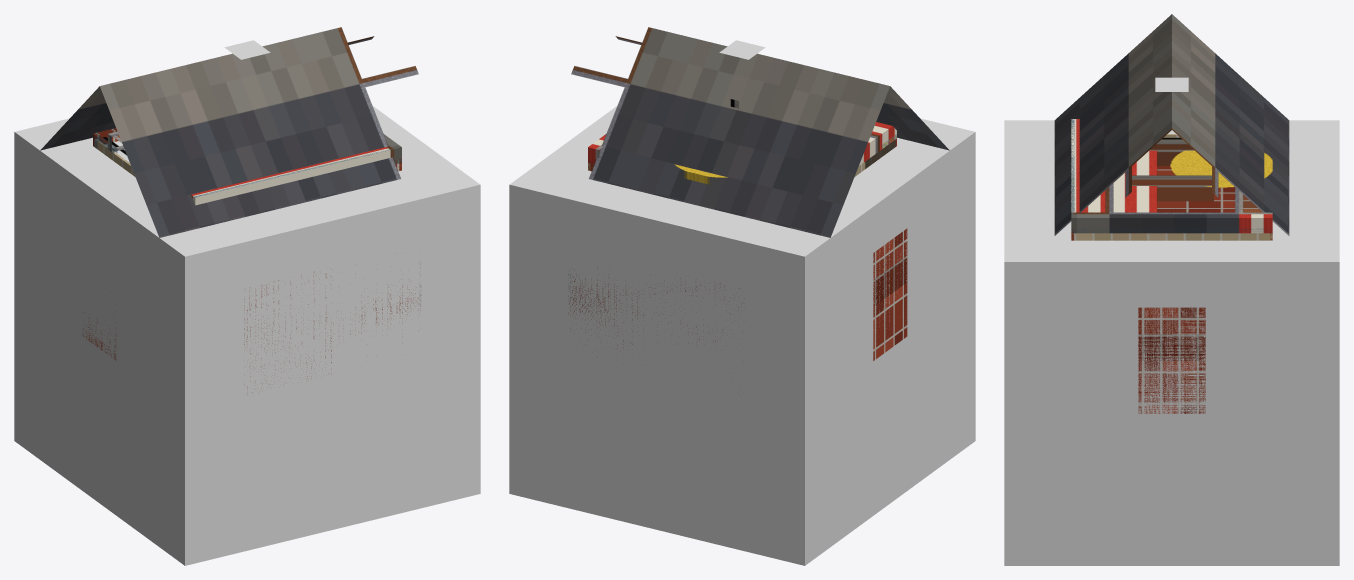
File: st_matthews_cathedral.glb
3 renders of one model, left to right at view 1: azimuth 30°, elevation 25°; view 2: azimuth 150°, elevation 25°; view 3: azimuth 270°, elevation 25°, orthographic.
Parts seen in each view (by area): view 1: Cube, st_matthews_cathedral_roof_-1_xb, masonic_temple_roof_xf, st_matthews_cathedral_roof_1_xb; view 2: Cube, st_matthews_cathedral_roof_1_xb, st_matthews_cathedral__wall_9_xb, st_matthews_cathedral_roof_-1_xb, masonic_temple_roof_xf; view 3: Cube, st_matthews_cathedral_roof_1_xb, st_matthews_cathedral_roof_-1_xb, st_matthews_cathedral__wall_3_xb, masonic_temple_roof_xb, masonic_temple_roof_xf, st_matthews_cathedral__tower_xb, masonic_temple__wall_1_xb, st_matthews_cathedral_cross_xb.
Boxes of the visible parts, x1,y1,x2,y2 form: Cube: [14, 105, 480, 565]; st_matthews_cathedral_roof_-1_xb: [100, 27, 418, 237]; masonic_temple_roof_xf: [103, 137, 390, 205]; st_matthews_cathedral_roof_1_xb: [40, 36, 374, 150]; Cube: [509, 105, 975, 565]; st_matthews_cathedral_roof_1_xb: [571, 27, 889, 237]; st_matthews_cathedral__wall_9_xb: [873, 228, 907, 360]; st_matthews_cathedral_roof_-1_xb: [615, 36, 949, 150]; masonic_temple_roof_xf: [674, 122, 896, 184]; Cube: [1004, 120, 1339, 565]; st_matthews_cathedral_roof_1_xb: [1172, 14, 1289, 235]; st_matthews_cathedral_roof_-1_xb: [1054, 14, 1171, 235]; st_matthews_cathedral__wall_3_xb: [1138, 307, 1205, 413]; masonic_temple_roof_xb: [1071, 166, 1272, 233]; masonic_temple_roof_xf: [1071, 119, 1272, 212]; st_matthews_cathedral__tower_xb: [1132, 140, 1213, 201]; masonic_temple__wall_1_xb: [1071, 233, 1272, 240]; st_matthews_cathedral_cross_xb: [1155, 77, 1188, 91].
Bounding box in the file's own units: 2 × 2.7 × 2.
3 materials, 2 textured.
